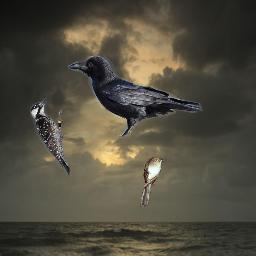Crow: (68, 56, 203, 139)
Cuckoo: (140, 156, 164, 207)
Woodpecker: (30, 98, 70, 175)
